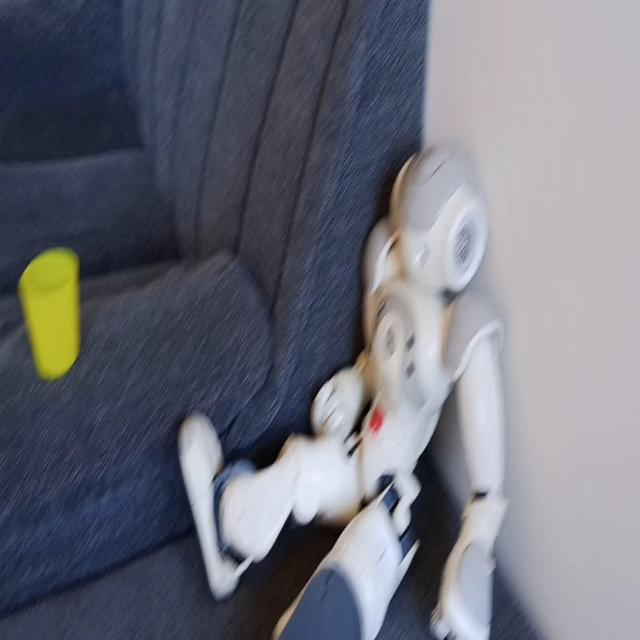cup: (16, 238, 87, 387)
